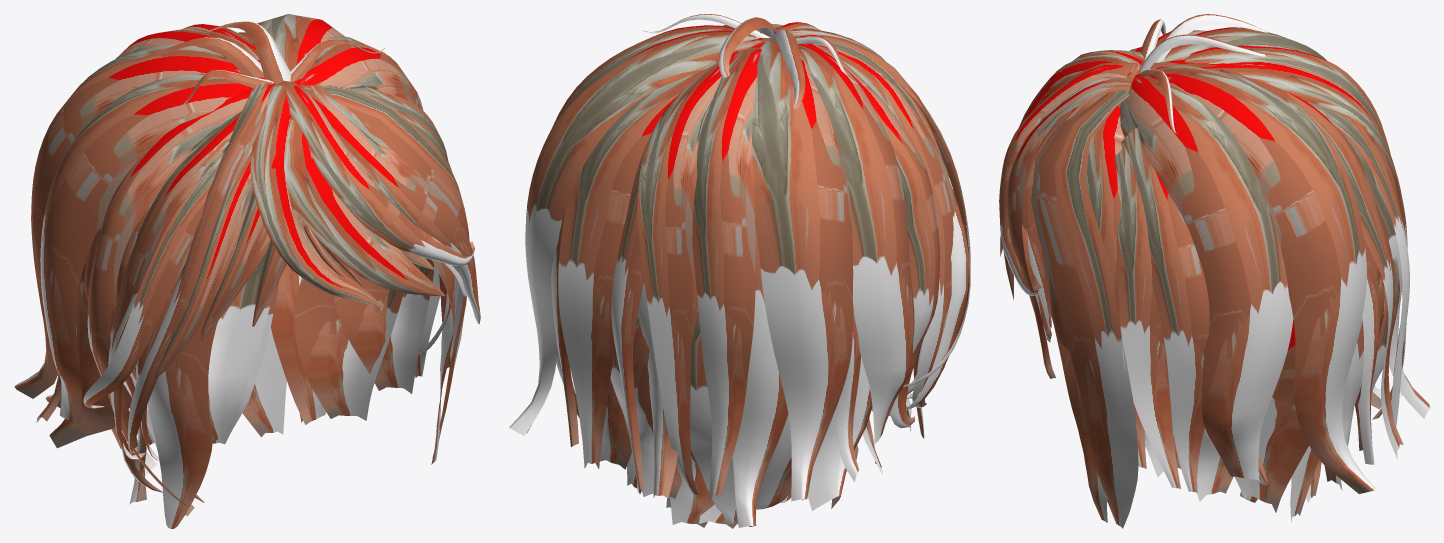
The model's file is hair2.glb.
3 renders of one model, left to right at view 1: azimuth 30°, elevation 25°; view 2: azimuth 150°, elevation 25°; view 3: azimuth 270°, elevation 25°, orthographic. The views are drawn at different scales.
Parts seen in each view (by area): view 1: hair; view 2: hair; view 3: hair.
Boxes of the visible parts, box(x1,y1,x2,y2) form: hair: box(14, 14, 480, 528); hair: box(509, 14, 970, 528); hair: box(999, 14, 1429, 528).
Size of the model in its own units: 0.282 by 0.3295 by 0.2808.
Materials: 1 (1 with a texture image).
